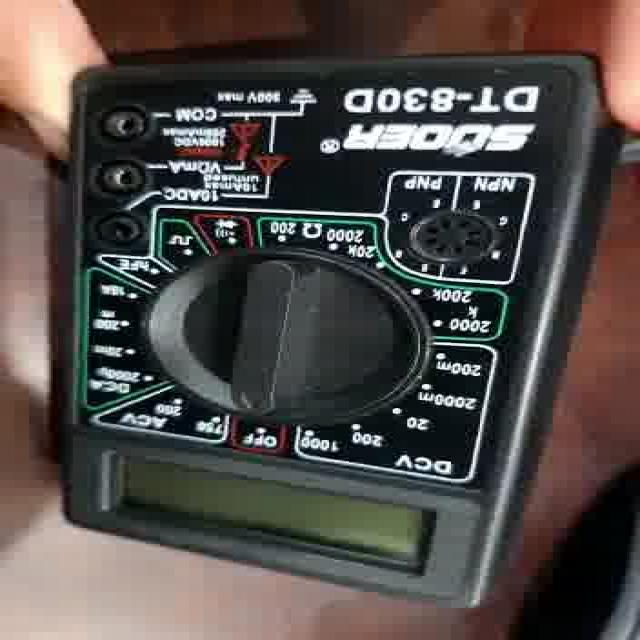multimeter: (76, 56, 538, 604)
